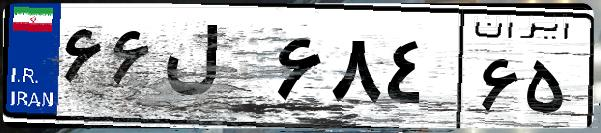4: (385, 28, 445, 110)
5: (525, 38, 570, 115)
6: (270, 28, 330, 110), (57, 26, 110, 100), (475, 38, 525, 113), (110, 28, 158, 98)
8: (330, 28, 385, 110)
ل: (158, 20, 270, 120)
